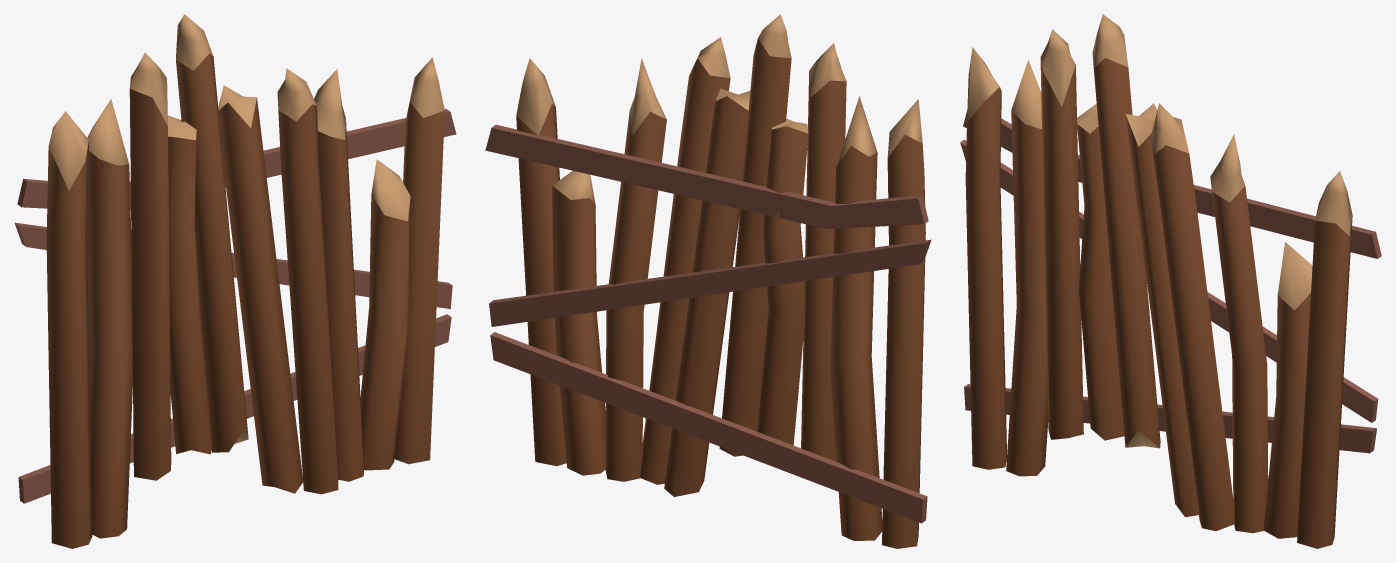
Rendered from Fence_WoodC_H.fbx.
3 views of the same model, side by side, from view 1: azimuth 30°, elevation 25°; view 2: azimuth 150°, elevation 25°; view 3: azimuth 330°, elevation 25° (orthographic). The views are drawn at different scales.
Parts seen in each view (by area): view 1: Fence_WoodC_H; view 2: Fence_WoodC_H; view 3: Fence_WoodC_H.
Boxes of the visible parts, <box> form: Fence_WoodC_H: <box>14,14,456,548</box>; Fence_WoodC_H: <box>485,14,931,548</box>; Fence_WoodC_H: <box>960,14,1381,548</box>.
Bounding box in the file's own units: 563 × 612 × 98.79.
